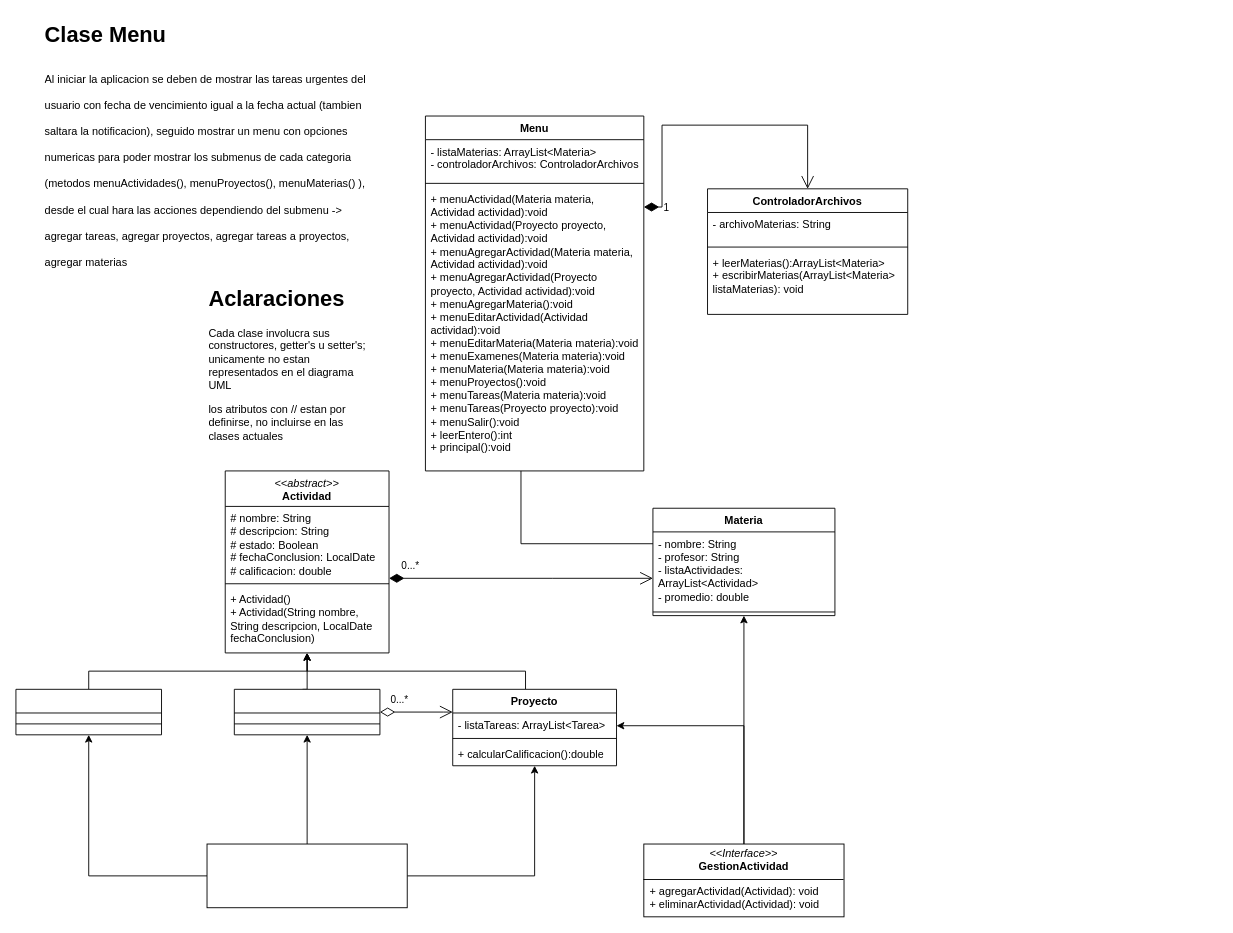
This 1233x933 diagram has some shape labels left out. The shapes that lost their labels are listed below. From the top down, each one's centre as x and y in pixels, then its label:
At pixel 88 711: "Examen".
At pixel 306 711: "Tarea".
At pixel 306 875: "<<Interface>> Notificar + notificarUsuario(): void".
